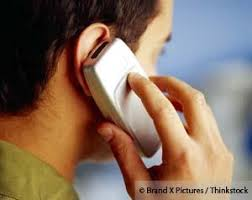phone: (84, 37, 177, 158)
